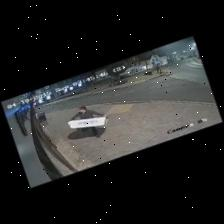person: (70, 106, 107, 120)
